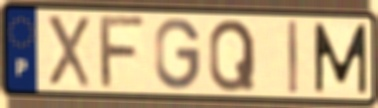F: (97, 15, 149, 91)
G: (153, 16, 203, 92)
I: (286, 18, 300, 97)
M: (312, 21, 369, 96)
Q: (207, 17, 258, 94)
X: (44, 13, 93, 90)
